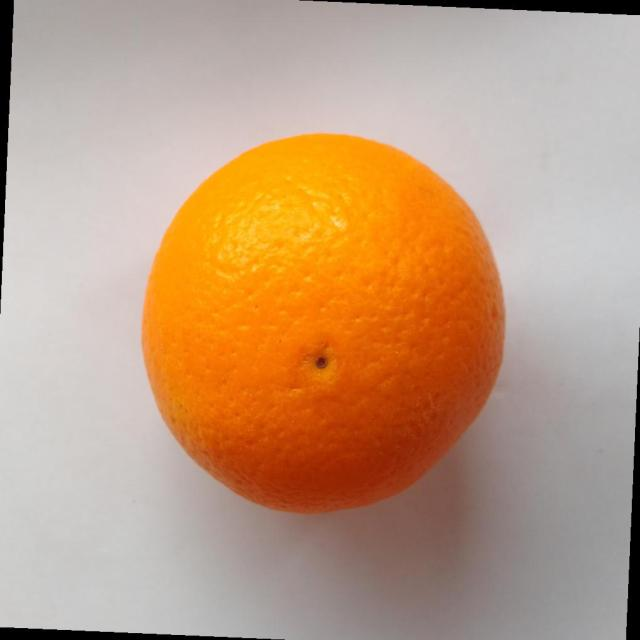fresh orange: (140, 130, 506, 514)
